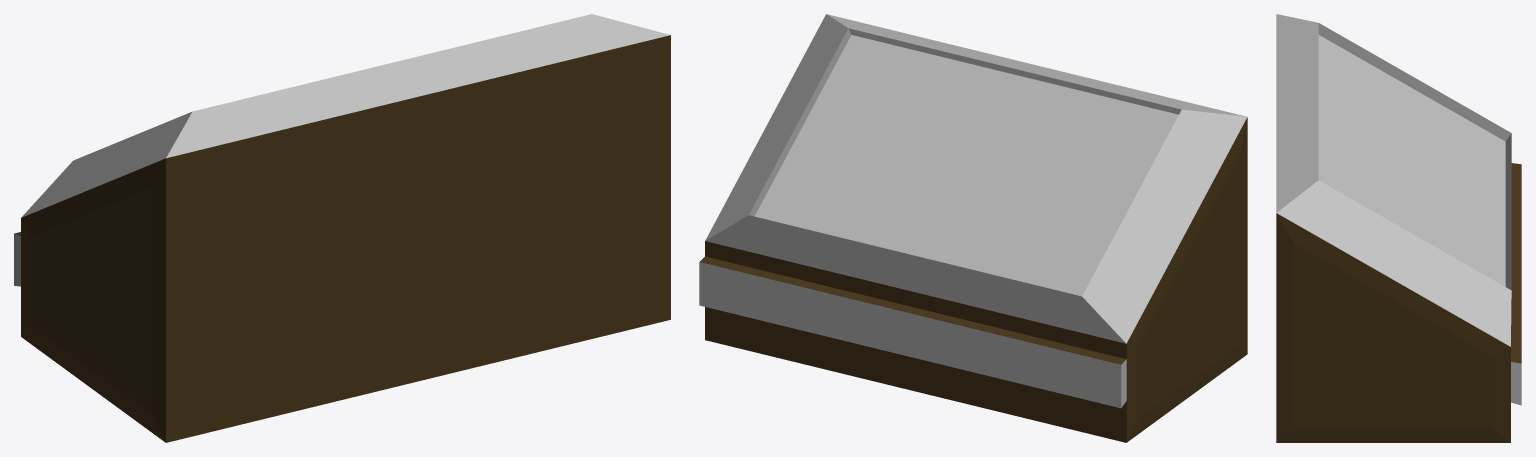
The picture shows the model from 3 angles, left to right: view 1: azimuth 30°, elevation 25°; view 2: azimuth 150°, elevation 25°; view 3: azimuth 270°, elevation 25°; orthographic projection. The views are drawn at different scales.
Parts seen in each view (by area): view 1: Cube; view 2: Cube; view 3: Cube.
Part boxes in pixels (bbox=[...]): Cube: bbox=[14, 14, 670, 442]; Cube: bbox=[699, 14, 1247, 442]; Cube: bbox=[1276, 14, 1521, 442].
Size of the model in its own units: 404 by 228 by 209.
